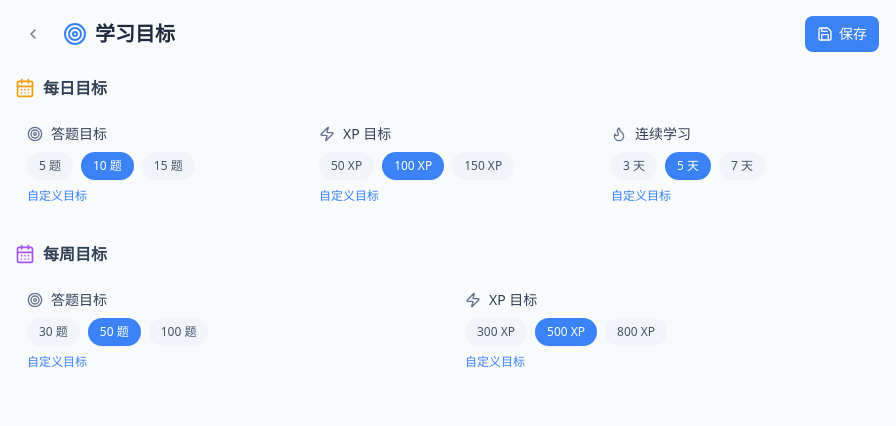
GoalSettingPanel › shows custom input when "自定义目标" is clicked
The width and height of the screenshot is (896, 426).
Click the 1st button "自定义目标": (57, 196) [27,188,87,204]
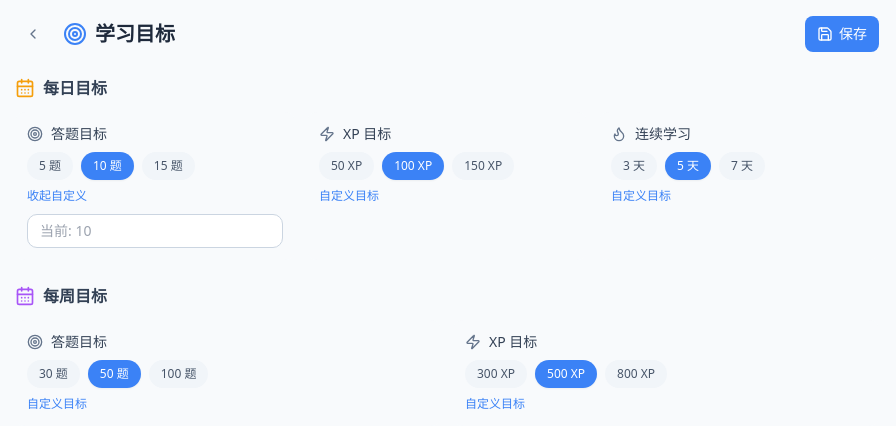
Expected: the number field with placeholder "当前: 10" is shown, [27,214,283,248]
